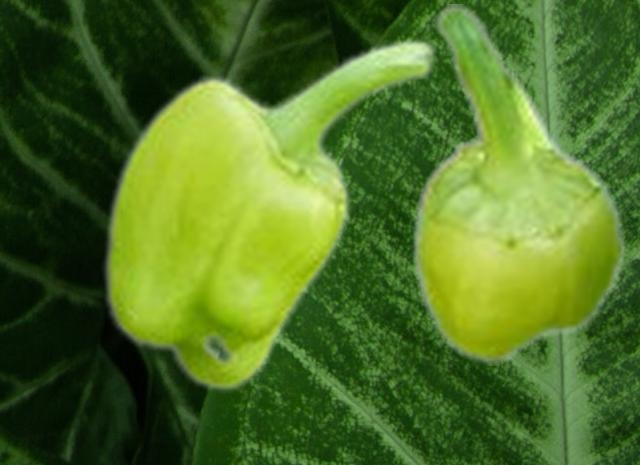bell_pepper: (101, 36, 438, 392), (410, 4, 627, 364)
